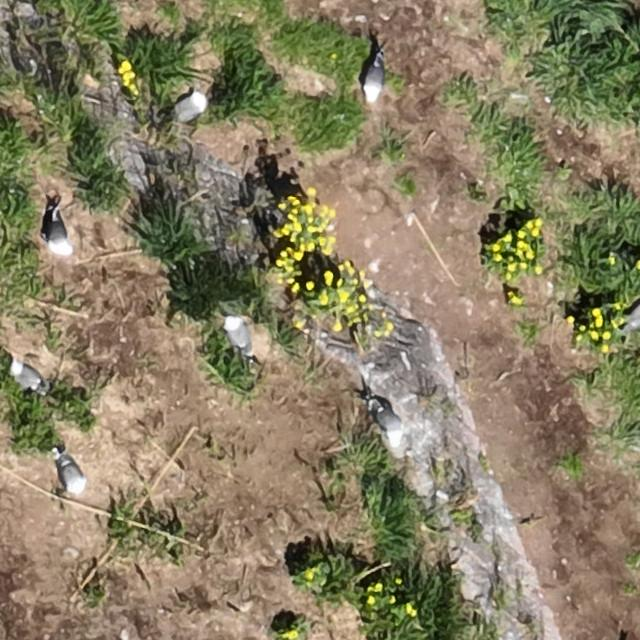umineko: (60, 459, 85, 492), (226, 319, 250, 353), (364, 61, 384, 100), (177, 92, 207, 118), (13, 364, 42, 389), (49, 217, 68, 252), (626, 300, 640, 328)
